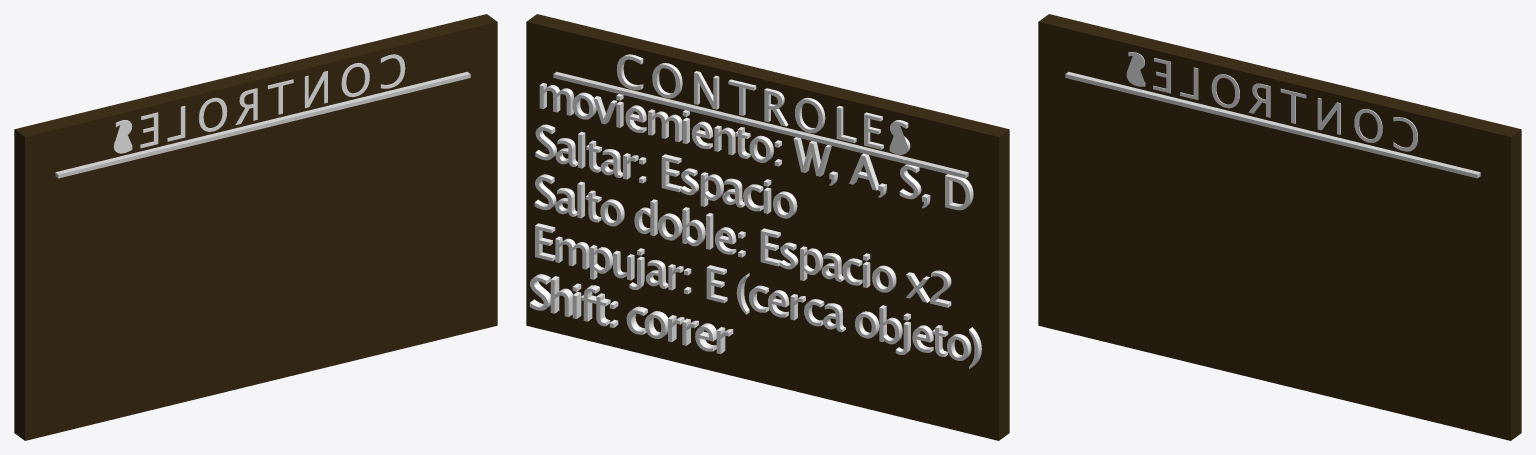
Rendered from Controles.fbx.
3 renders of one model, left to right at view 1: azimuth 30°, elevation 25°; view 2: azimuth 150°, elevation 25°; view 3: azimuth 330°, elevation 25°, orthographic.
Visible parts, largest first — view 1: typeMesh4; view 2: typeMesh4; view 3: typeMesh4.
Boxes of the visible parts, left/top/right/bottom form: typeMesh4: left=14, top=14, right=497, bottom=440; typeMesh4: left=526, top=14, right=1009, bottom=440; typeMesh4: left=1038, top=14, right=1521, bottom=440.
Size of the model in its own units: 15.97 by 9.82 by 1.08.
